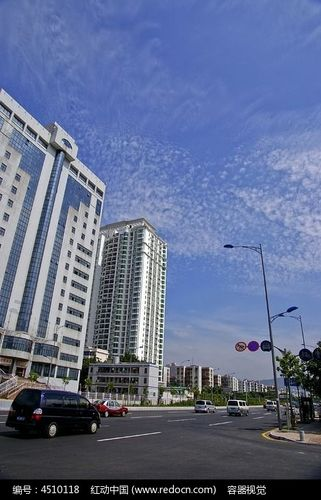buildings: (2, 127, 144, 391), (85, 215, 182, 376)
